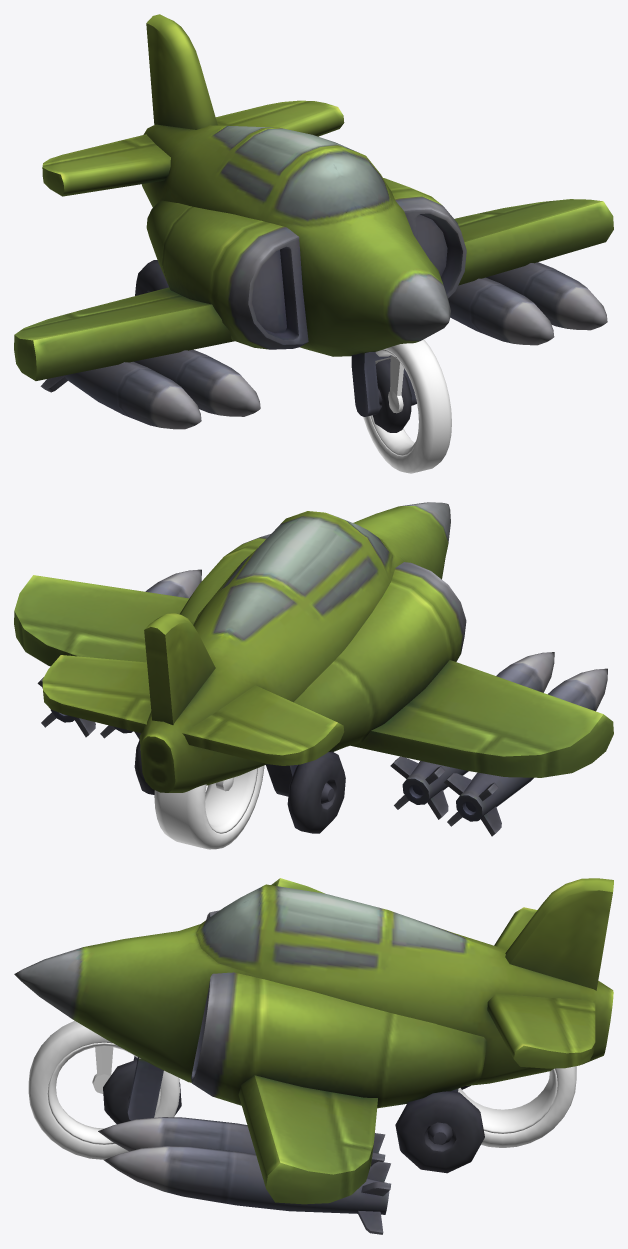
The model's file is chicken_gun_plane_bike.glb.
3 views of the same model, one above another, from view 1: azimuth 30°, elevation 25°; view 2: azimuth 150°, elevation 25°; view 3: azimuth 270°, elevation 25° (orthographic). The views are drawn at different scales.
Parts seen in each view (by area): view 1: Plane02_Green, tire, rim; view 2: Plane02_Green, tire, rim; view 3: Plane02_Green, tire (×2), rim (×2).
Boxes of the visible parts, box(x1,y1,x2,y2) form: Plane02_Green: box(14, 14, 613, 432); tire: box(363, 339, 451, 473); rim: box(370, 349, 419, 456); Plane02_Green: box(14, 502, 613, 836); tire: box(154, 765, 264, 849); rim: box(205, 768, 257, 833); Plane02_Green: box(14, 878, 613, 1234); tire (×2): box(28, 1020, 576, 1159); rim (×2): box(47, 1042, 557, 1144).
Bounding box in the file's own units: 0.0282 × 0.0127 × 0.0248.
Materials: 4 (3 with a texture image).
